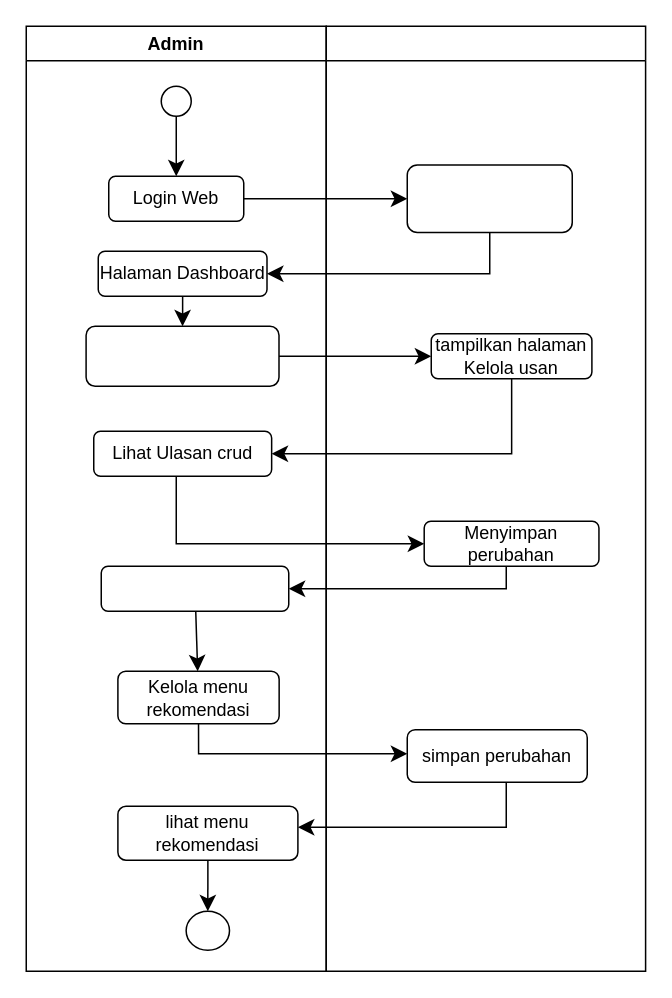
This 672x998 diagram has some shape labels left out. Here are the shapes that lost their labels. From the top down, the box of each, then its label:
(406, 164, 572, 232): Menampilkan halaman dashboard
(85, 325, 279, 386): Masuk ke kelola ulasan
(325, 25, 646, 971): Sistem
(100, 565, 289, 611): Tampilkan perubahan
